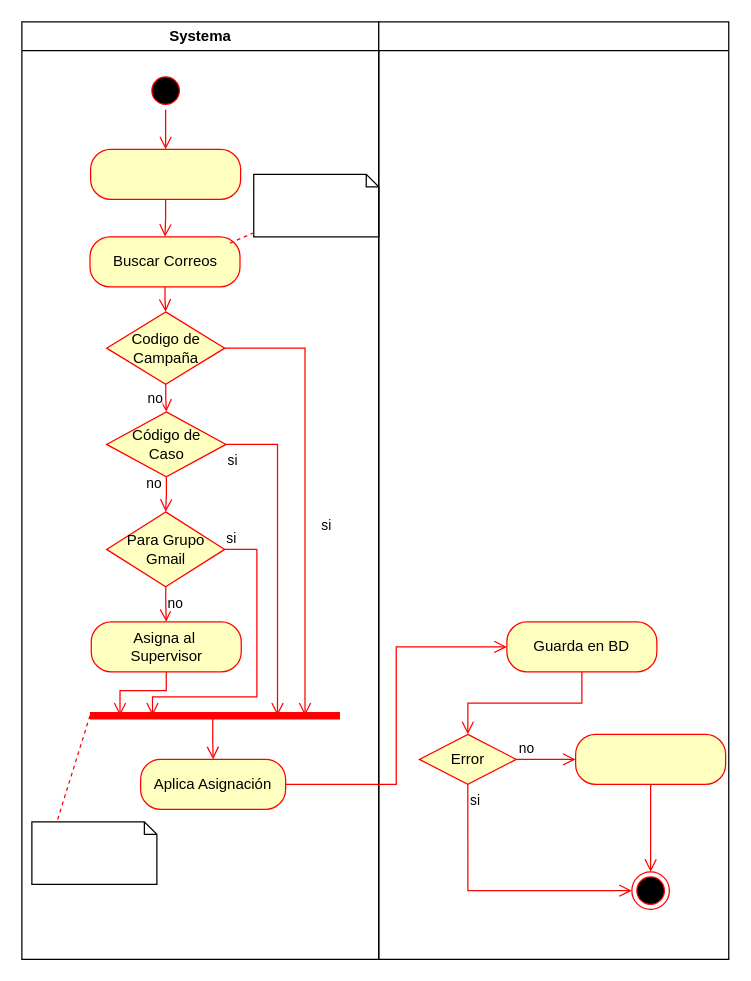
The diagram is 751 pixels wide and 981 high, and some of its shapes have lost their labels. The box of each missing label's shape, as (x1, y1, x2, y2) in pixels:
BD: (378, 21, 729, 959)
Cualquier Error se registra: (31, 821, 157, 884)
Importados sin procesar: (252, 173, 379, 237)
Job Iniciado con Lock: (89, 148, 241, 199)
Registra Error: (574, 733, 726, 784)
